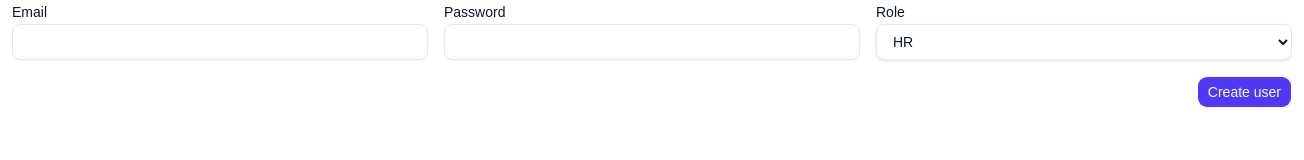
UserCreateForm › rejects an invalid email format
Type "not-an-email" into the field labelled "Email". click: (220, 42)
box: [12,24,428,60]
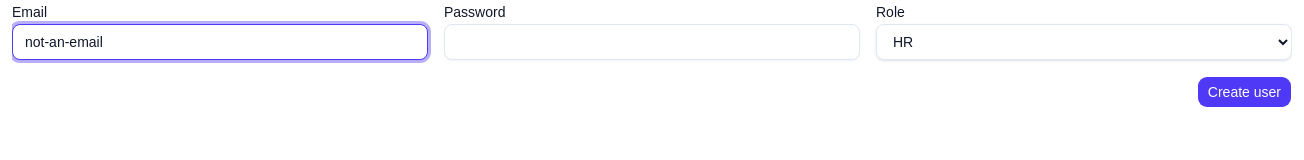
Type "secret123" into the password field labelled "Password". click: (652, 42)
box: [444,24,860,60]
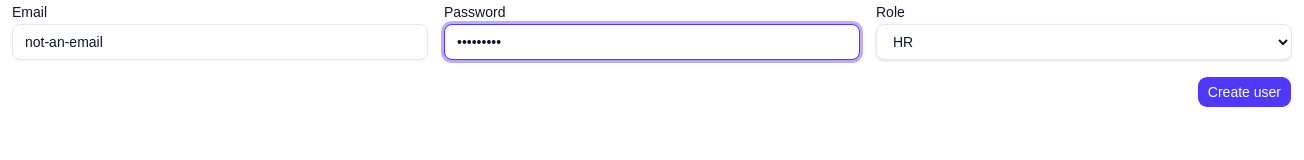
Click the button "Create user". click: (1244, 92)
box: [1197,76,1292,108]
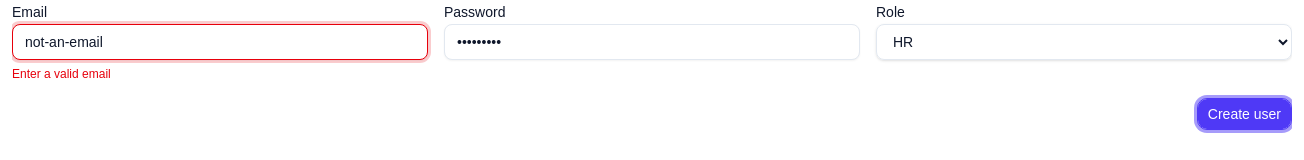
Expected: the text "Enter a valid email" is shown, [12,67,111,81]
